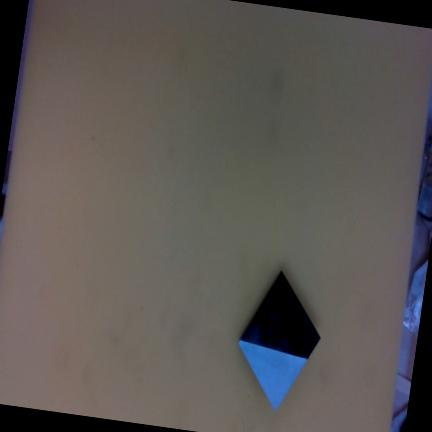tile: (216, 272, 338, 412)
